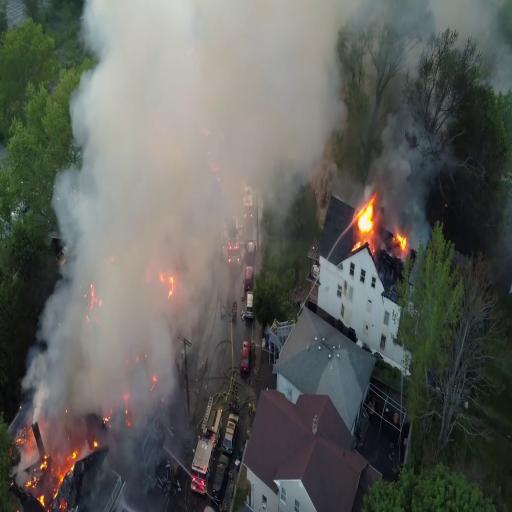fire: (357, 183, 374, 234)
smoke: (107, 28, 202, 368)
